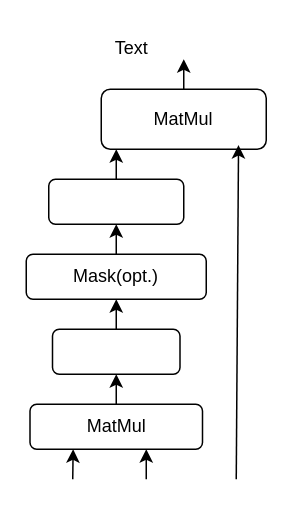
This 293x518 diagram has some shape labels left out. The shapes that lost their labels are listed below. From the top down, each one's centre as x and y in pixels, then its label:
At pixel 115 201: "SoftMax".
At pixel 115 351: "Scale".
